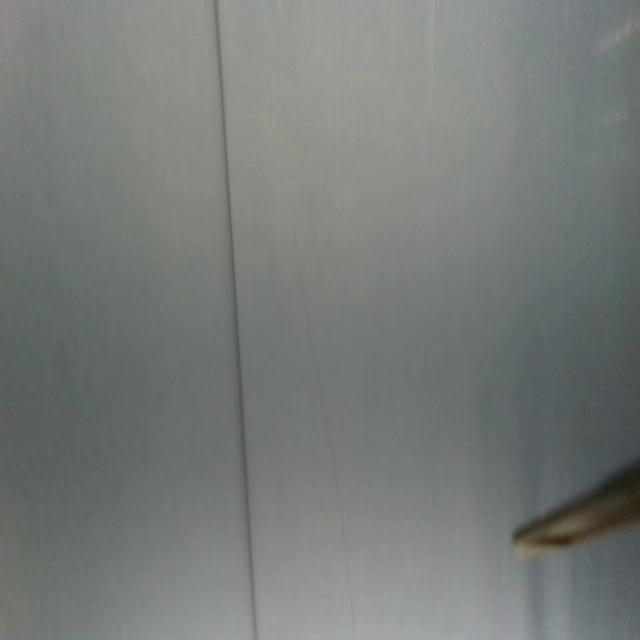crease: (212, 0, 259, 640), (290, 227, 357, 640)
